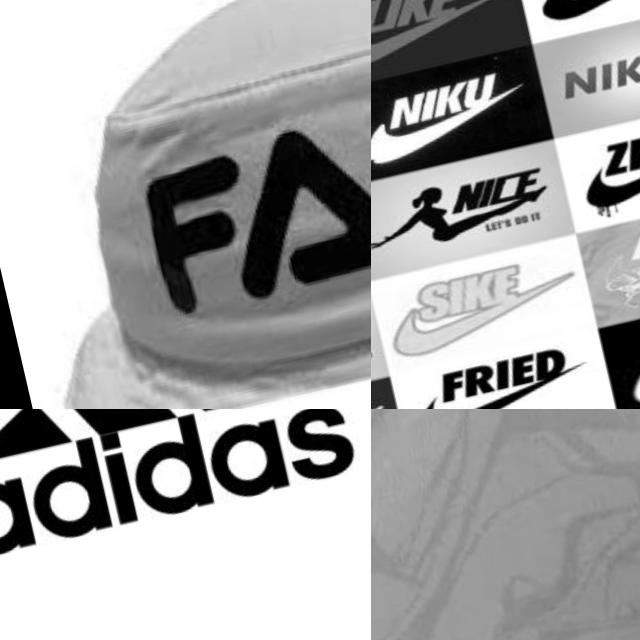ADIDAS_original: (0, 409, 371, 589)
FILA_fake: (111, 65, 371, 345)
NIKE_fake: (371, 148, 566, 273), (377, 246, 583, 360), (371, 57, 543, 175), (403, 337, 601, 409), (371, 0, 524, 75), (550, 17, 640, 114), (568, 100, 640, 218), (595, 199, 640, 313), (519, 0, 640, 29)
